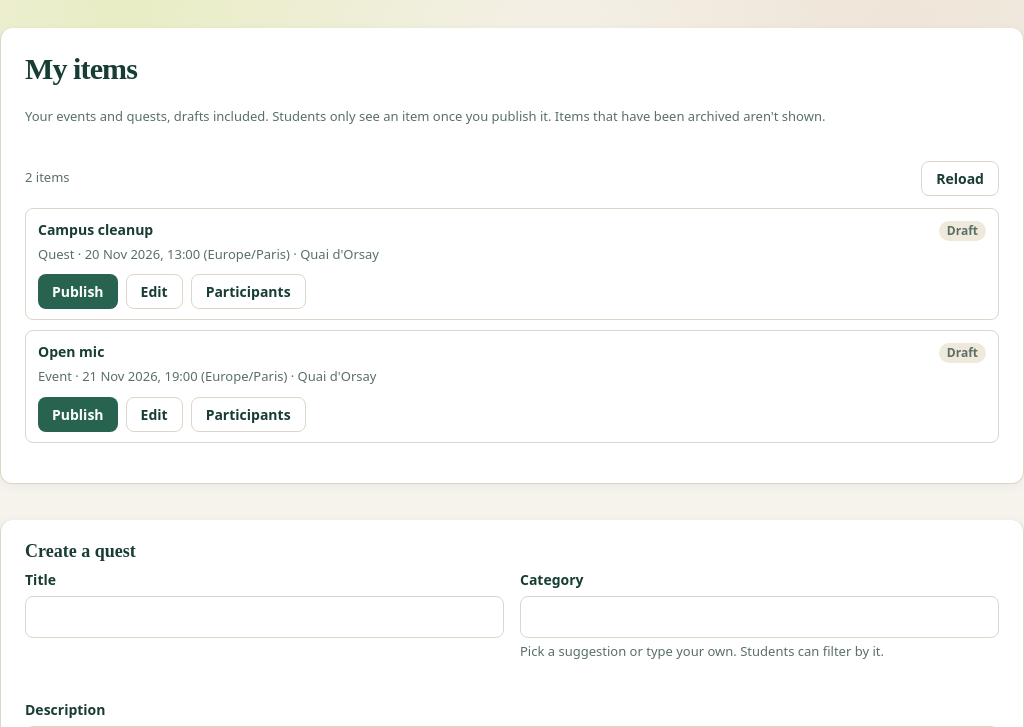
Test: My items and publishing (QB-60) › treats only item_already_published as already published, and reloads
Expected: the text "Campus cleanup" is shown, x1=38 y1=218 x2=153 y2=240
Click the button named "Publish \"Campus cleanup\"" at [78, 292], box x1=38 y1=274 x2=118 y2=309
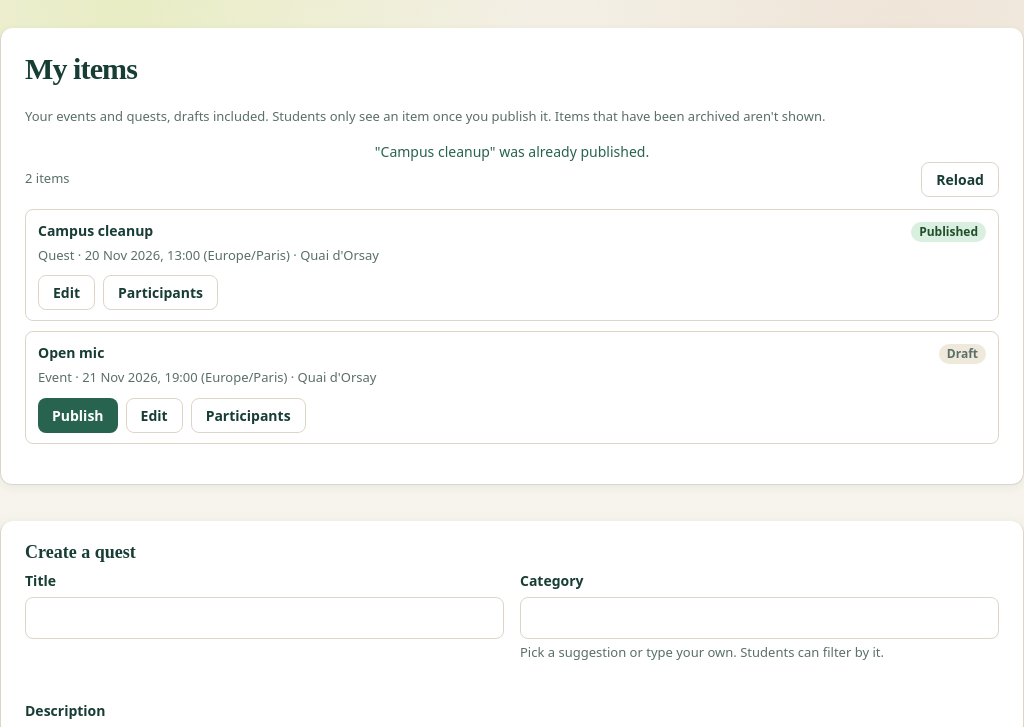
Now the text "\"Campus cleanup\" was already published." is shown, box x1=375 y1=142 x2=649 y2=160
Now the list item "Campus cleanup" shows "Published", box x1=919 y1=222 x2=978 y2=240
